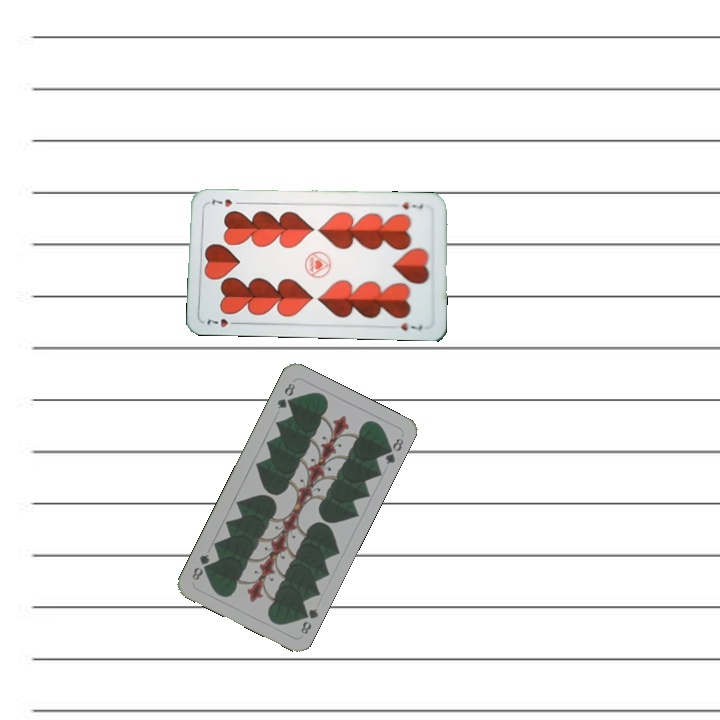G8: (273, 379, 298, 412), (297, 604, 321, 637)
H7: (202, 314, 241, 330), (398, 198, 425, 212)
